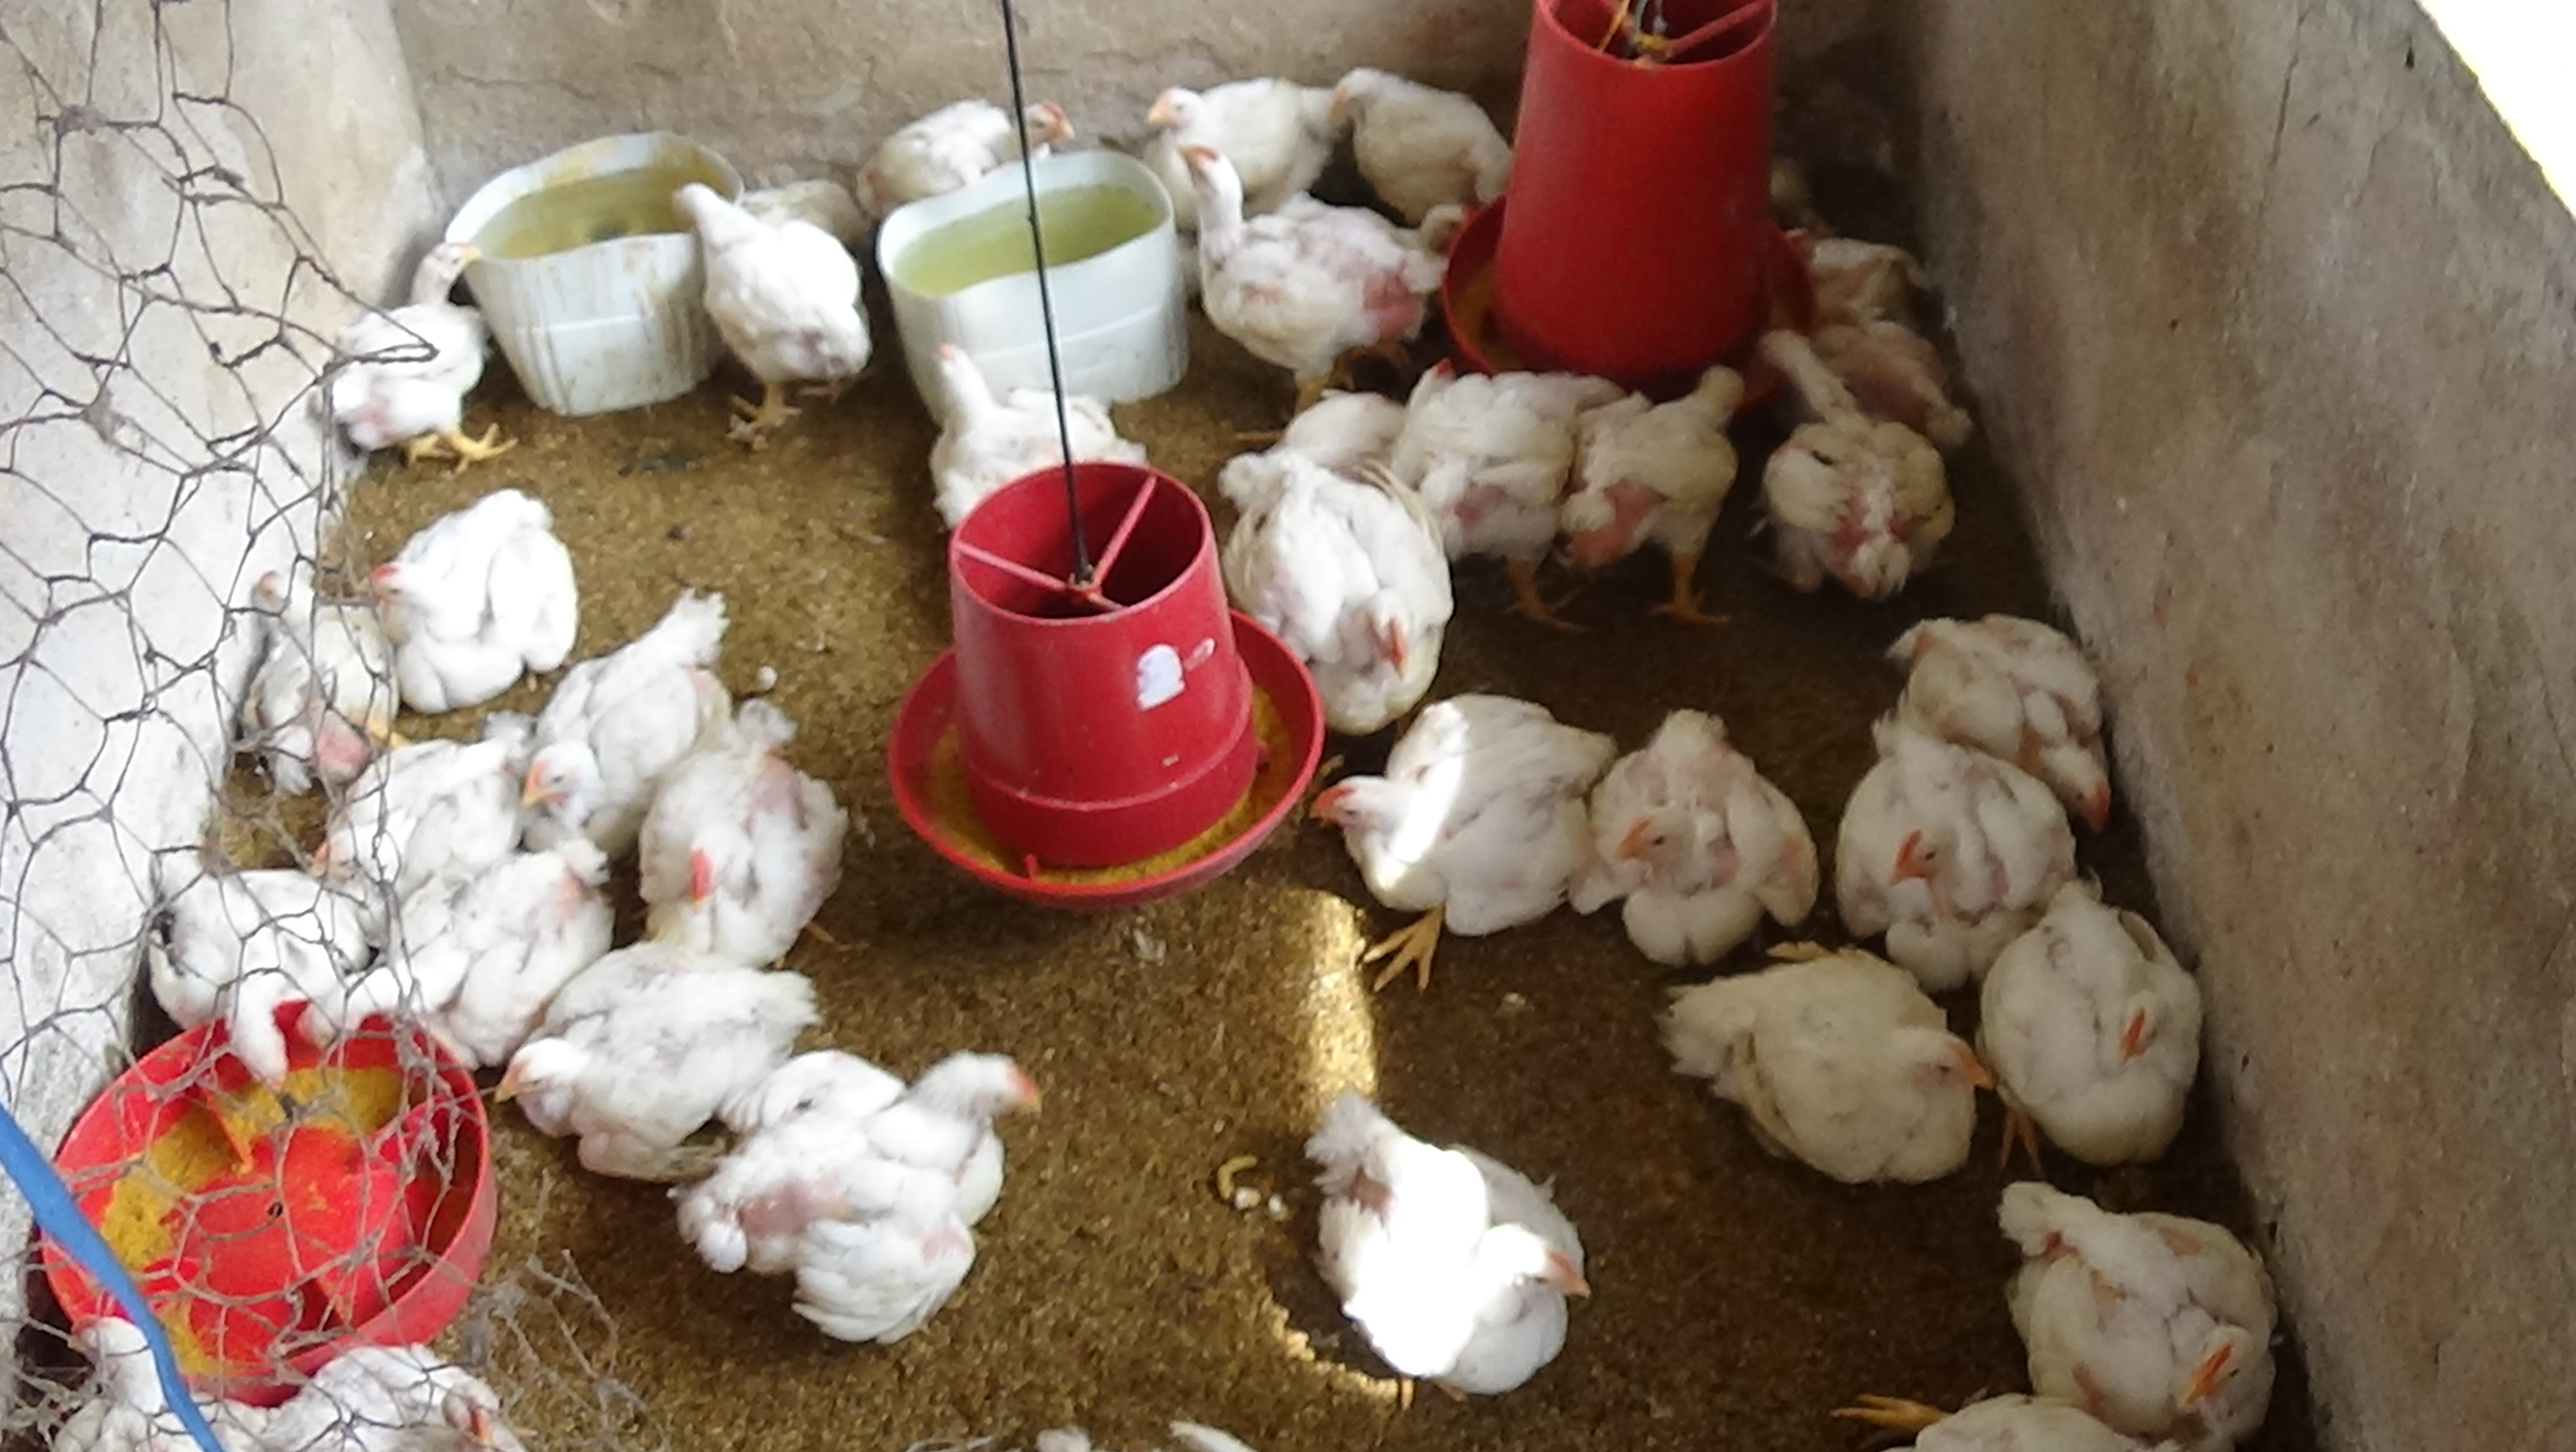Pollos: (688, 981, 1046, 1358), (1286, 1075, 1589, 1410), (1304, 687, 1626, 981), (524, 908, 833, 1201), (1654, 938, 1987, 1190), (1948, 853, 2212, 1163), (1996, 1181, 2275, 1434), (1868, 604, 2157, 848), (1185, 149, 1470, 388), (1212, 446, 1453, 722), (633, 680, 858, 976), (1835, 698, 2066, 981), (1739, 324, 1969, 607), (520, 574, 757, 848), (1583, 701, 1821, 972), (1562, 361, 1799, 629), (326, 836, 589, 1070), (117, 823, 356, 1078), (1417, 336, 1644, 581), (326, 209, 524, 467), (672, 186, 888, 423), (340, 498, 587, 689), (909, 322, 1145, 519), (225, 565, 402, 763), (842, 69, 1092, 198), (292, 733, 533, 862), (1341, 55, 1532, 209), (1131, 51, 1322, 195)
